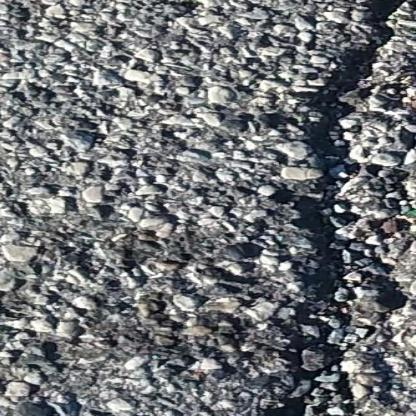Cracks: (236, 0, 416, 416)
